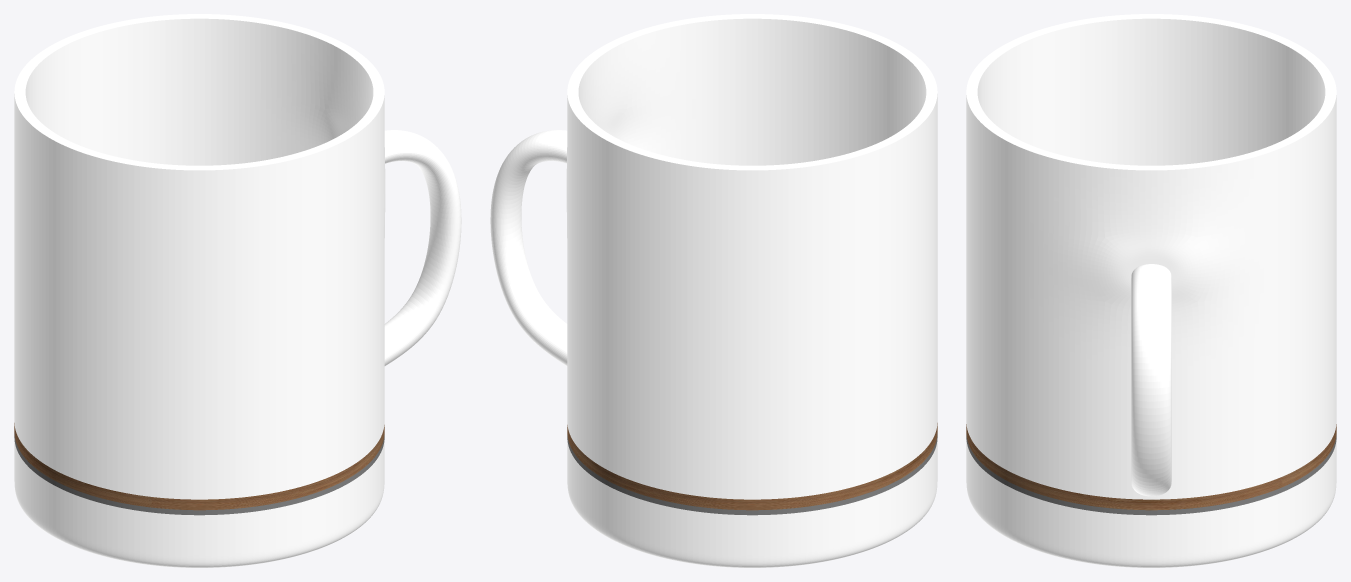
Rendered from simple mug.glb.
3 views of the same model, side by side, from view 1: azimuth 30°, elevation 25°; view 2: azimuth 150°, elevation 25°; view 3: azimuth 270°, elevation 25° (orthographic).
Parts seen in each view (by area): view 1: Cup, Handle; view 2: Cup, Handle; view 3: Cup, Handle.
Part boxes in pixels (left/top/right/bottom): Cup: left=14, top=14, right=385, bottom=567; Handle: left=384, top=130, right=461, bottom=365; Cup: left=566, top=14, right=937, bottom=567; Handle: left=490, top=130, right=567, bottom=365; Cup: left=966, top=14, right=1336, bottom=567; Handle: left=1131, top=264, right=1171, bottom=496.
Bounding box in the file's own units: 0.1031 × 0.0944 × 0.0791.
3 materials, 1 textured.
